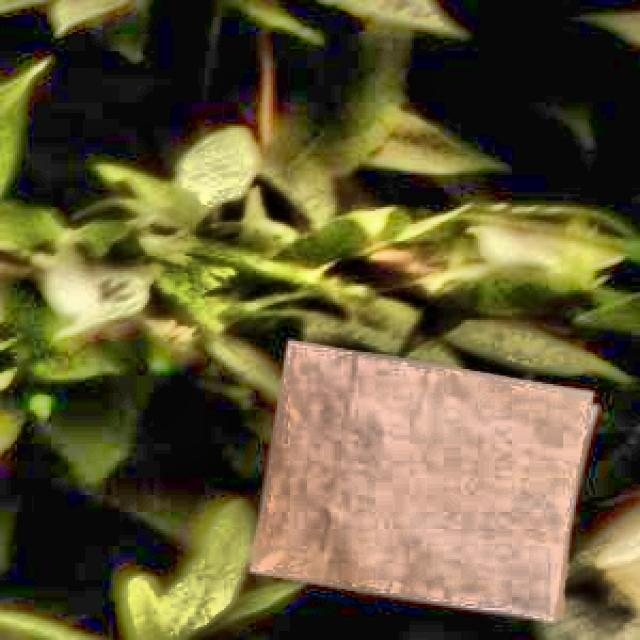Paper-bag: (236, 315, 614, 640)
